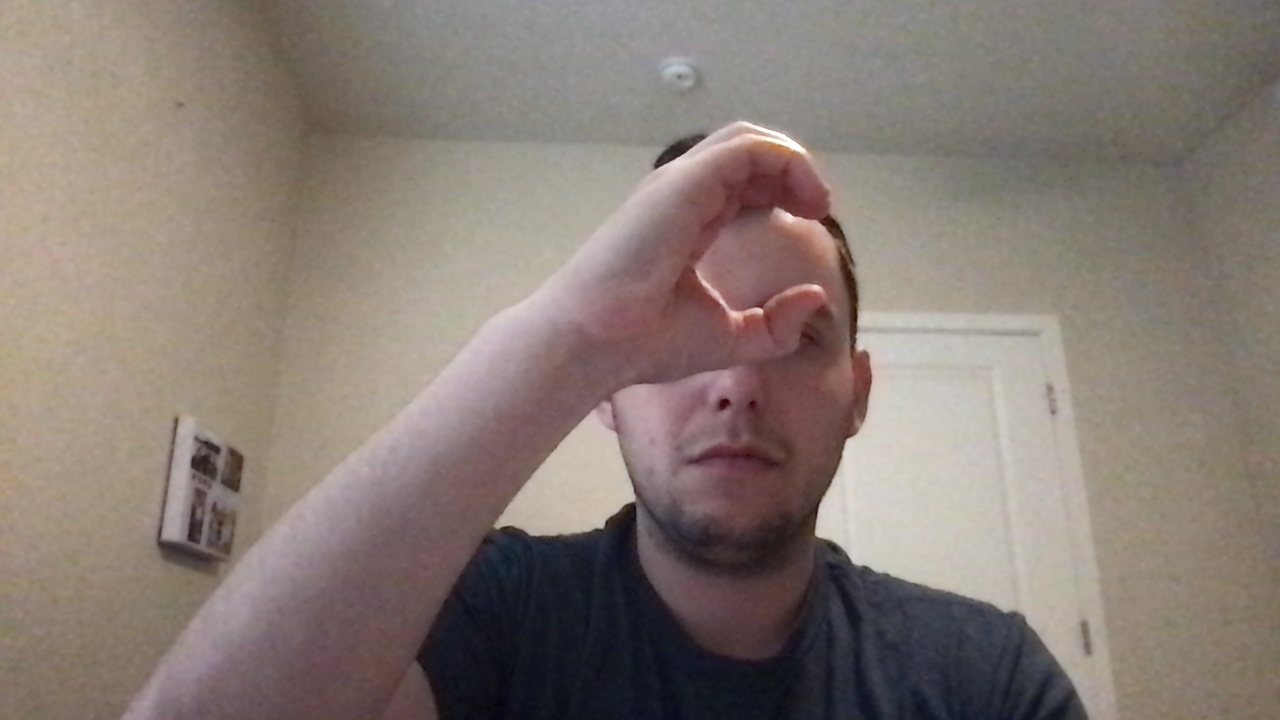c: (572, 117, 862, 389)
